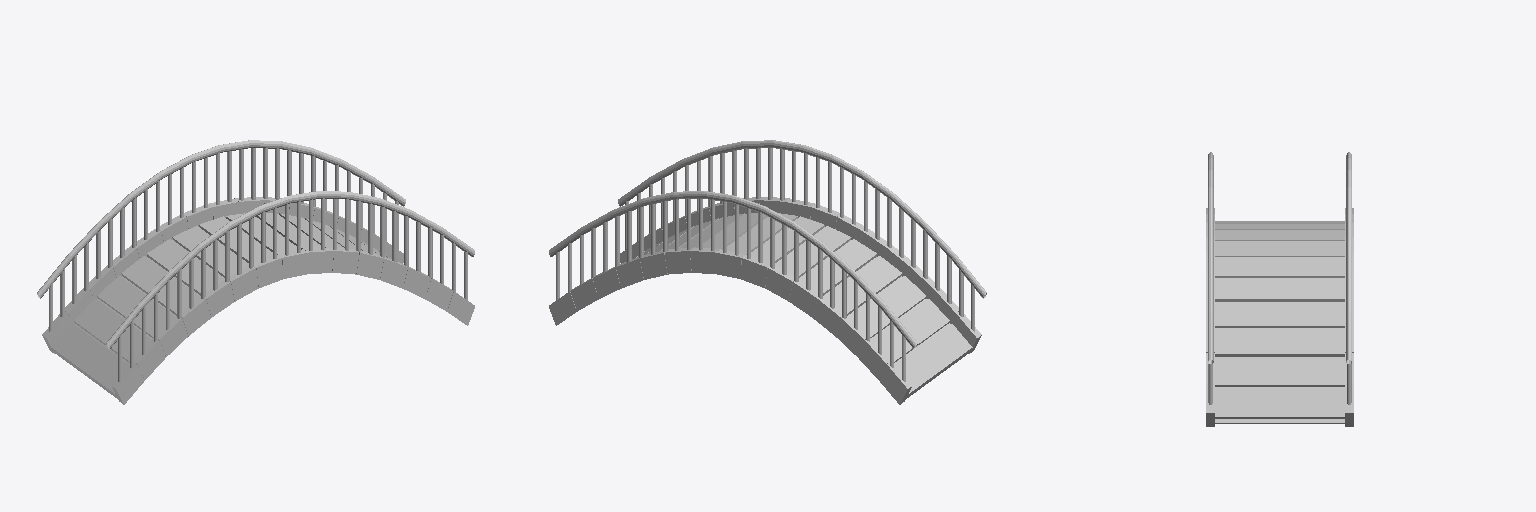
Rendered from Bridge.obj.
3 renders of one model, left to right at view 1: azimuth 30°, elevation 25°; view 2: azimuth 150°, elevation 25°; view 3: azimuth 270°, elevation 25°, orthographic.
Parts seen in each view (by area): view 1: Cylinder; view 2: Cylinder; view 3: Cylinder.
Part boxes in pixels (bbox=[...]): Cylinder: bbox=[37, 140, 474, 404]; Cylinder: bbox=[549, 140, 986, 404]; Cylinder: bbox=[1206, 152, 1353, 426].
Bounding box in the file's own units: 27.19 × 12.11 × 9.47.